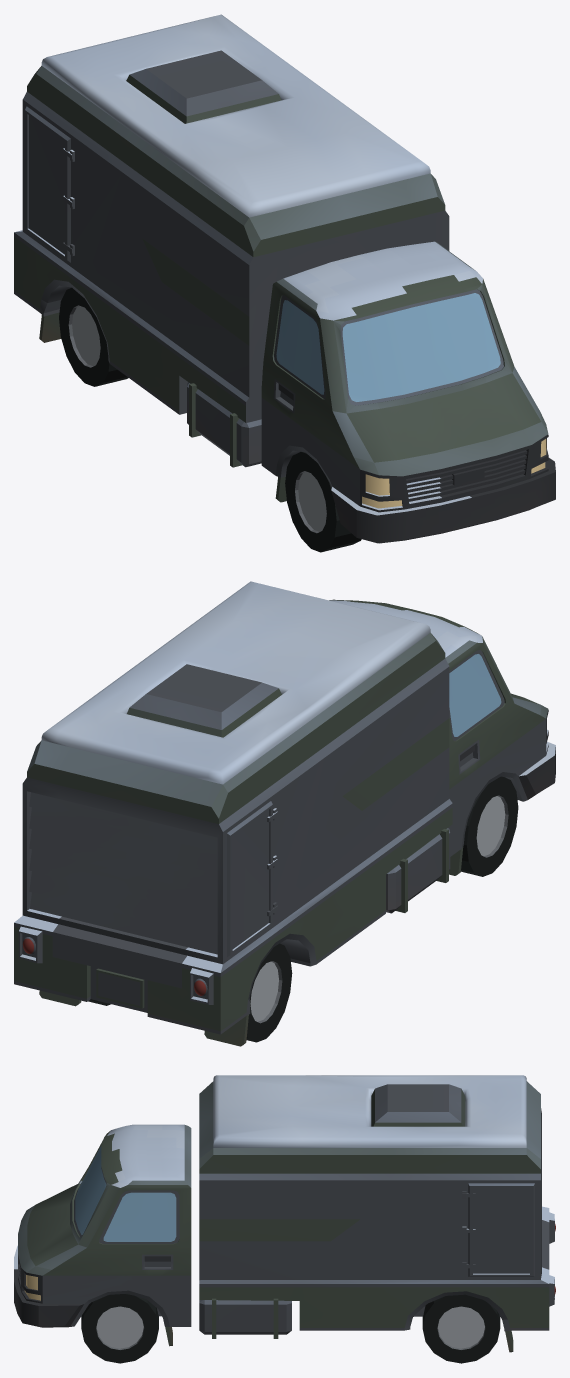
File: military_truck_clean.glb
3 views of the same model, one above another, from view 1: azimuth 30°, elevation 25°; view 2: azimuth 150°, elevation 25°; view 3: azimuth 270°, elevation 25° (orthographic). The views are drawn at different scales.
Parts seen in each view (by area): view 1: Body, Glass; view 2: Body, Glass; view 3: Body, Glass.
Boxes of the visible parts, x1=… form: Body: x1=14, y1=14, x2=555, y2=552; Glass: x1=276, y1=293, x2=500, y2=401; Body: x1=14, y1=581, x2=555, y2=1046; Glass: x1=449, y1=654, x2=501, y2=736; Body: x1=14, y1=1075, x2=555, y2=1363; Glass: x1=75, y1=1146, x2=176, y2=1241.
Bounding box in the file's own units: 2.5 × 3.4 × 7.2.
